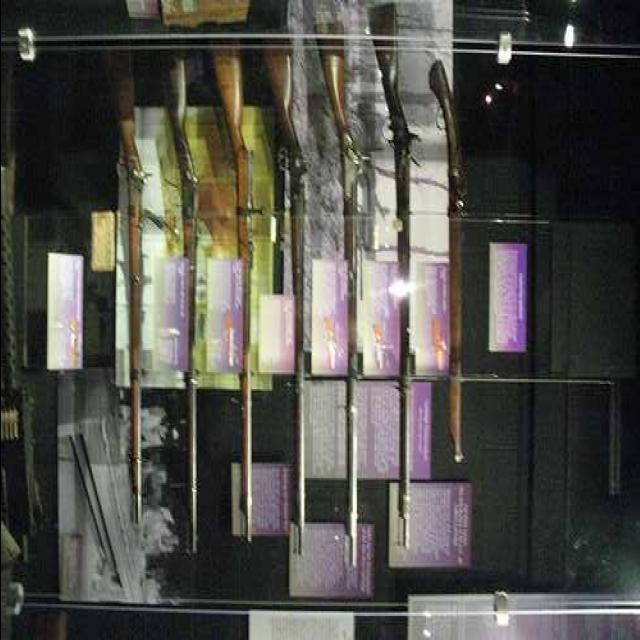heavyweapon: (353, 1, 433, 576), (74, 44, 158, 532), (307, 8, 373, 619), (192, 34, 269, 554), (253, 1, 312, 583), (427, 54, 489, 489), (158, 44, 209, 561)
